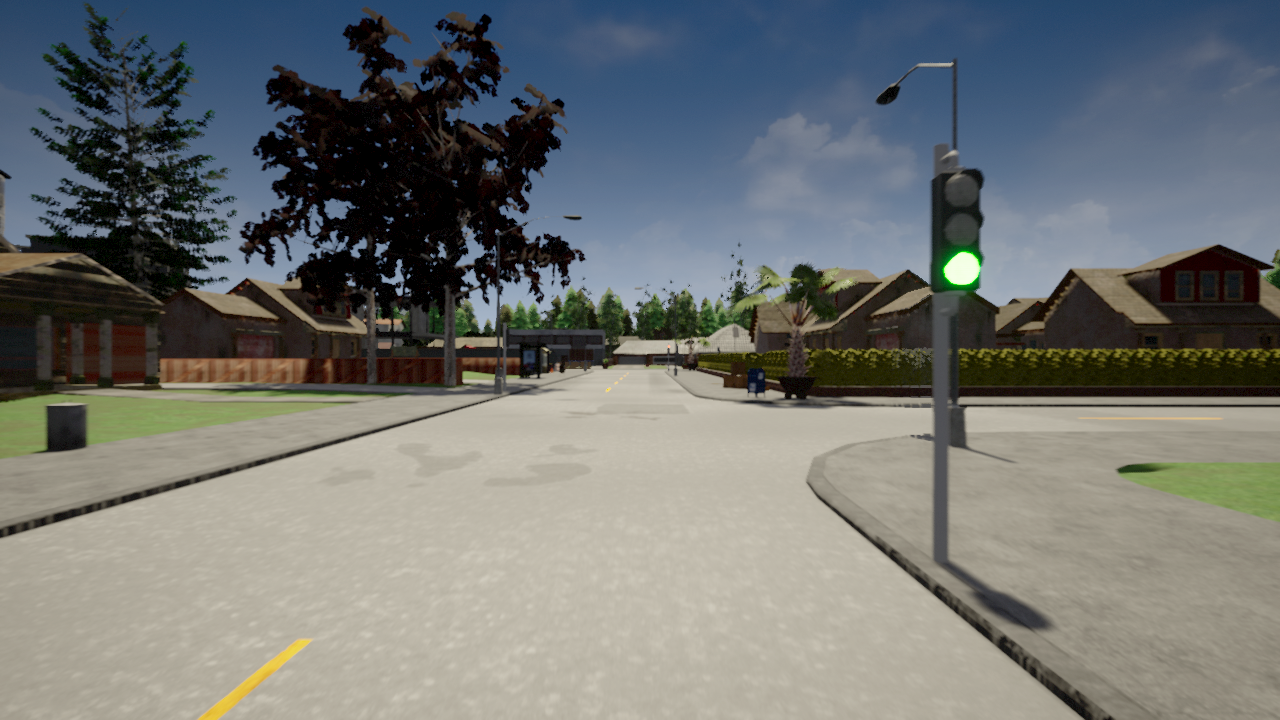green: (930, 167, 983, 296)
